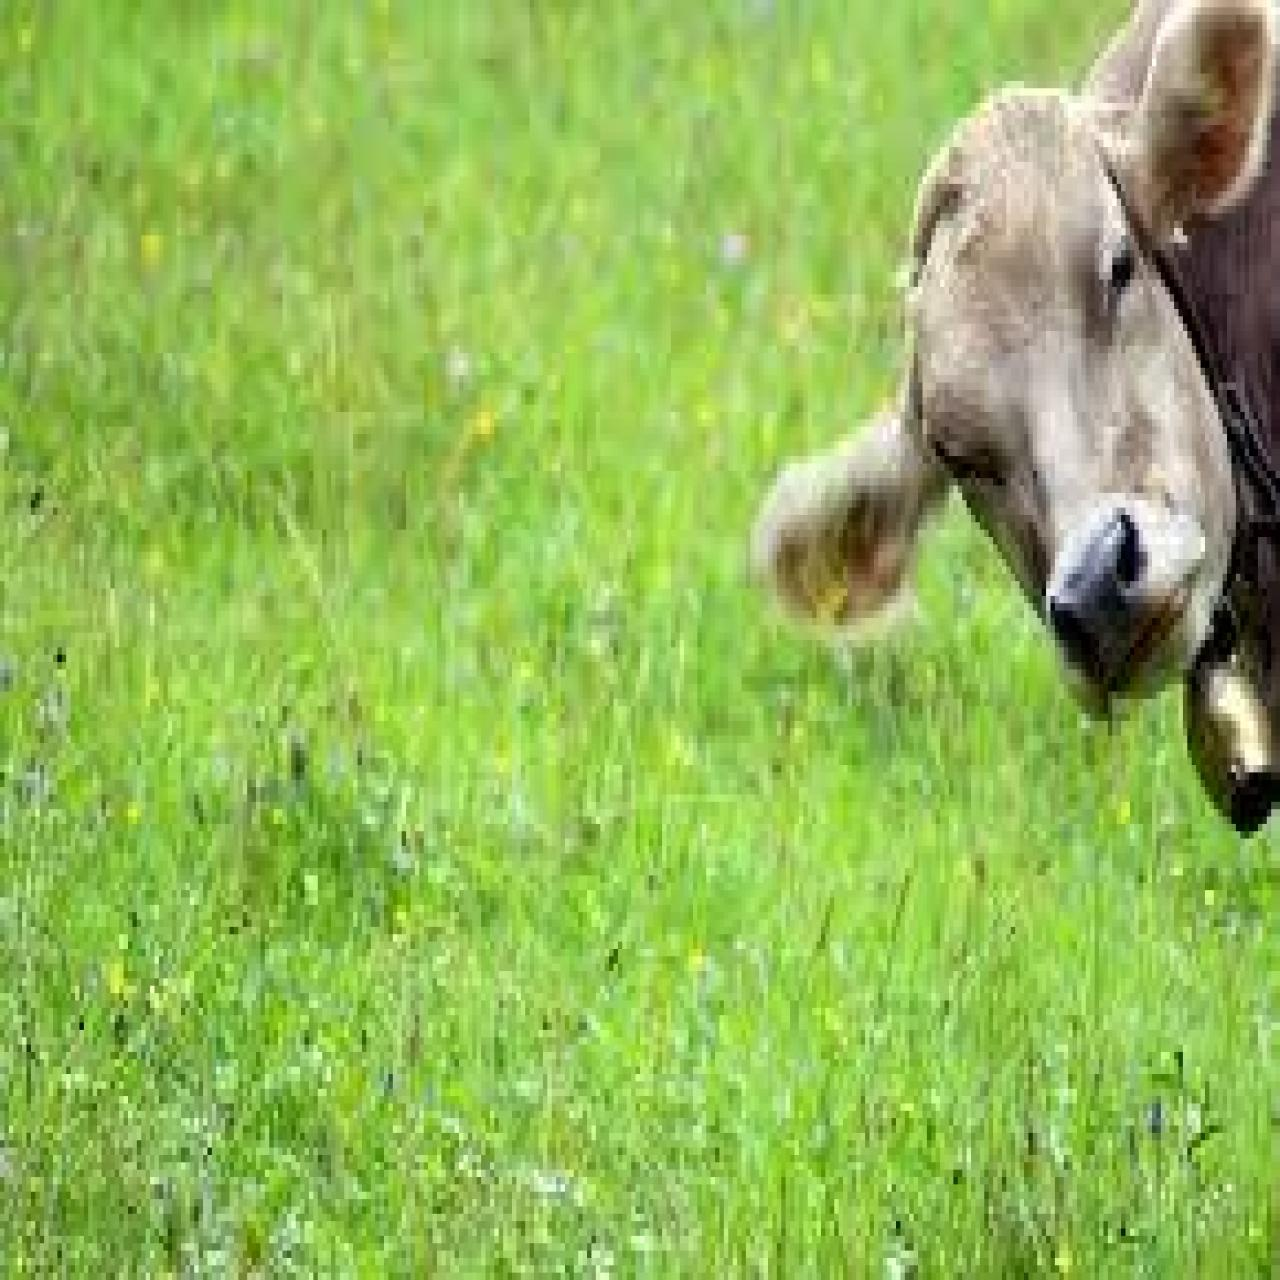cow: (745, 11, 1280, 843)
